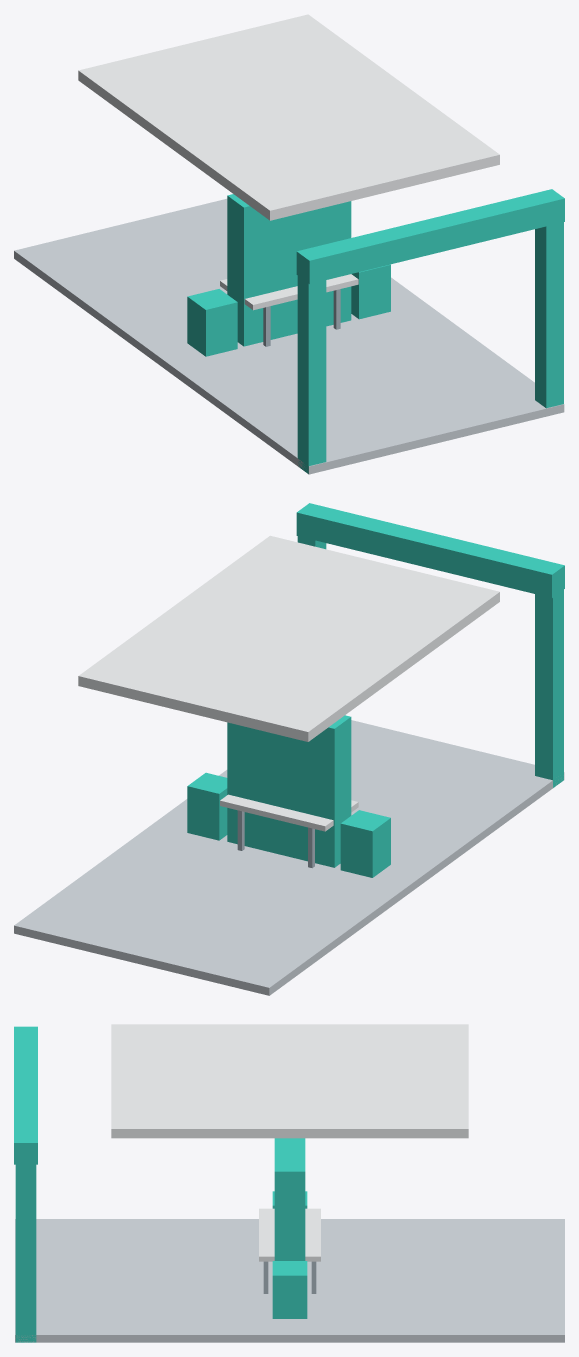
3 views of the same model, one above another, from view 1: azimuth 30°, elevation 25°; view 2: azimuth 150°, elevation 25°; view 3: azimuth 270°, elevation 25° (orthographic). The views are drawn at different scales.
Parts seen in each view (by area): view 1: Exhibition Booth Concept; view 2: Exhibition Booth Concept; view 3: Exhibition Booth Concept.
Boxes of the visible parts, x1=… form: Exhibition Booth Concept: x1=14, y1=14, x2=564, y2=474; Exhibition Booth Concept: x1=14, y1=503, x2=564, y2=995; Exhibition Booth Concept: x1=14, y1=1024, x2=564, y2=1342.
Size of the model in its own units: 4 by 3.34 by 8.01.
